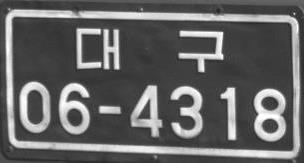0: (19, 80, 50, 133)
1: (213, 86, 245, 141)
3: (169, 84, 203, 138)
4: (131, 84, 163, 137)
6: (58, 81, 90, 135)
8: (252, 87, 287, 141)
대구_D: (75, 26, 225, 73)
